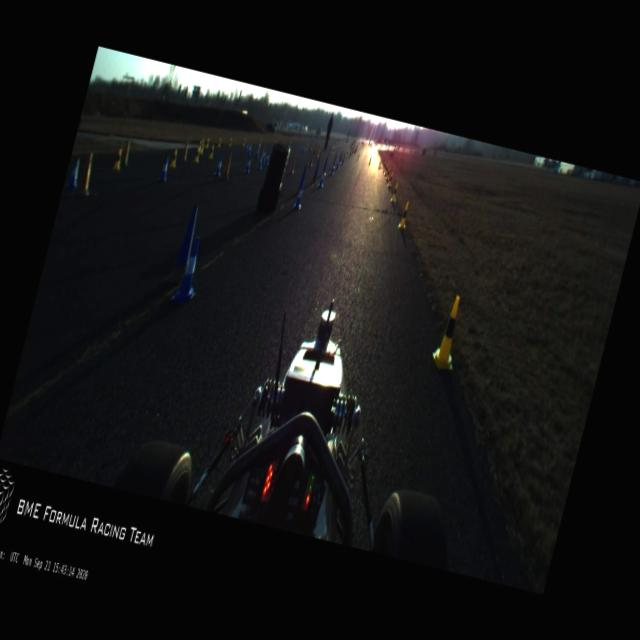blue_cone: (170, 233, 208, 307), (65, 155, 85, 190), (156, 156, 172, 182), (292, 182, 306, 210), (212, 156, 225, 178), (316, 168, 326, 187), (243, 154, 253, 173), (256, 153, 264, 171), (329, 161, 336, 174), (260, 148, 266, 162), (264, 152, 270, 165), (244, 140, 250, 152), (246, 141, 252, 153), (254, 146, 260, 158), (340, 154, 346, 165), (334, 149, 339, 160), (336, 157, 340, 169), (301, 144, 305, 153)
unknown_cone: (175, 201, 202, 267), (77, 150, 100, 196), (221, 150, 235, 180), (296, 164, 309, 194), (120, 140, 134, 167), (310, 159, 322, 184), (288, 152, 298, 176), (180, 141, 190, 163), (320, 156, 330, 176), (308, 148, 316, 168), (338, 150, 344, 164), (260, 140, 266, 154), (317, 148, 322, 162), (338, 150, 342, 162), (333, 152, 337, 161)
yellow_cone: (428, 293, 469, 372), (398, 201, 412, 229), (112, 148, 125, 172), (168, 148, 180, 168), (390, 182, 400, 204), (193, 146, 201, 163), (386, 171, 394, 187), (207, 144, 215, 160), (384, 166, 390, 180), (204, 136, 210, 150), (198, 142, 204, 155), (382, 160, 387, 171), (384, 162, 388, 175), (216, 138, 222, 146), (368, 155, 372, 165), (304, 142, 308, 152), (228, 138, 233, 146), (378, 160, 382, 169), (331, 146, 335, 155), (318, 143, 322, 152), (344, 150, 348, 158), (242, 138, 246, 146), (198, 140, 202, 146), (356, 154, 359, 160)
